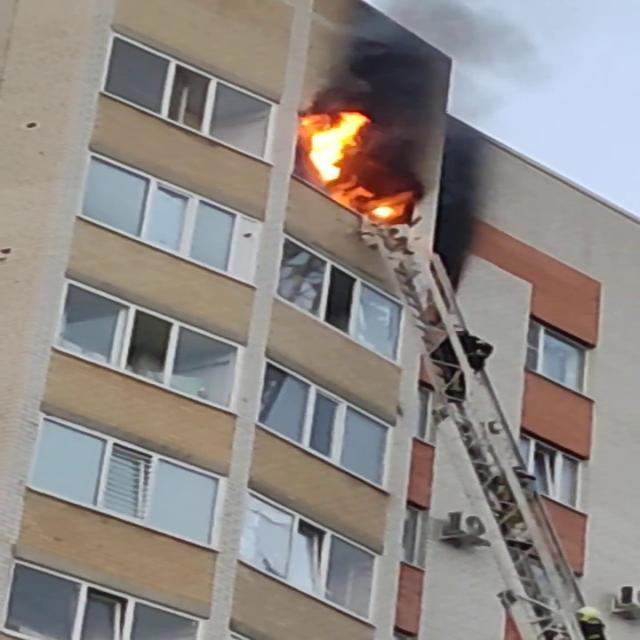Fire: (296, 106, 372, 186)
Smoke: (304, 0, 504, 172)
